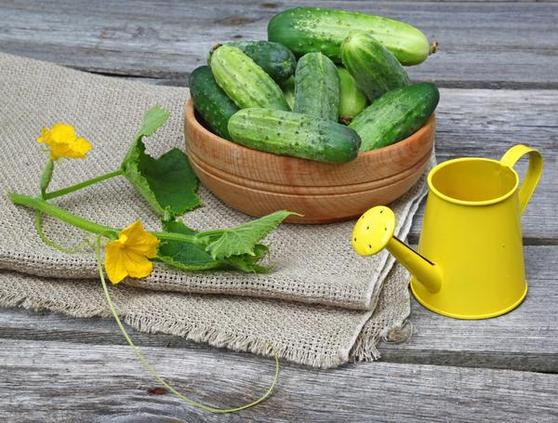cucumber: (268, 5, 432, 68), (224, 102, 362, 161)
